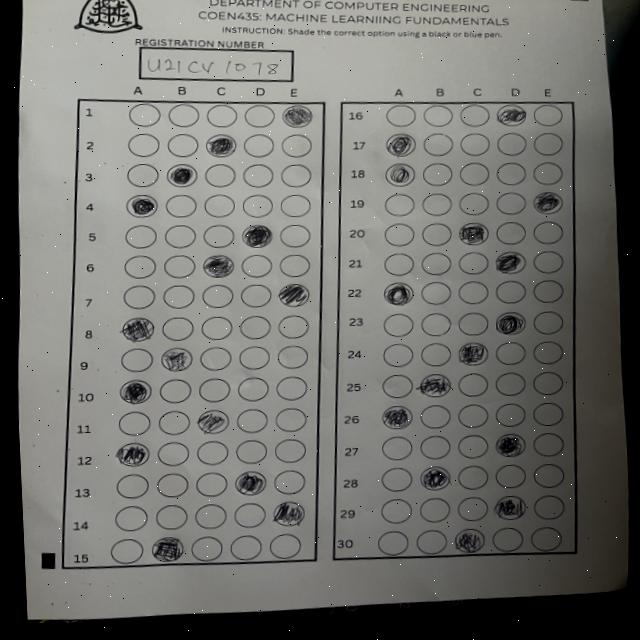bubble: (271, 500, 306, 529), (150, 535, 185, 564), (418, 464, 452, 493), (492, 493, 526, 522), (280, 102, 315, 130), (417, 371, 452, 399), (114, 441, 149, 469), (120, 316, 156, 343), (118, 378, 152, 406), (453, 527, 487, 555), (235, 469, 268, 497), (277, 282, 311, 309), (201, 253, 236, 279), (381, 403, 413, 431), (241, 223, 274, 250), (204, 132, 237, 159), (494, 310, 527, 337), (160, 345, 193, 372), (196, 408, 229, 435), (382, 281, 414, 308), (126, 193, 159, 219), (385, 132, 416, 159), (496, 102, 528, 128), (532, 190, 564, 216), (384, 162, 415, 188), (166, 162, 197, 188), (457, 222, 488, 247), (494, 433, 525, 458), (456, 341, 487, 366), (494, 251, 525, 275)
